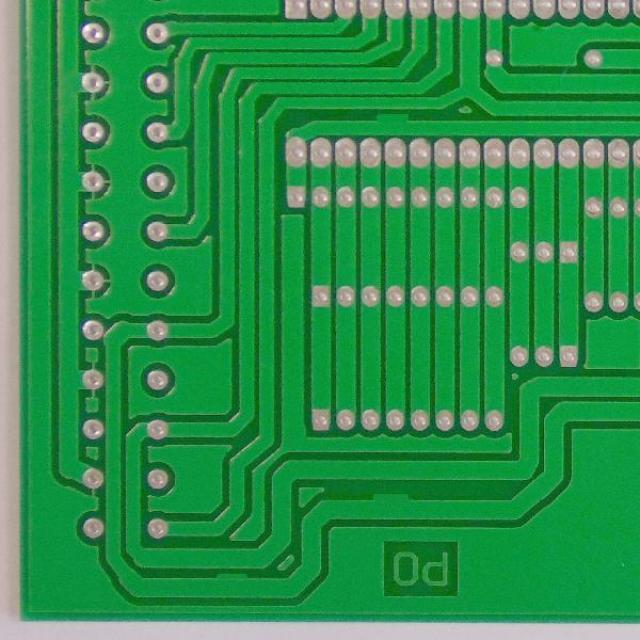Spur: (365, 486, 418, 524), (209, 568, 254, 602), (370, 108, 416, 138)
